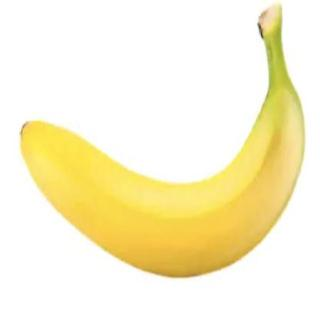banana: (18, 81, 306, 279)
